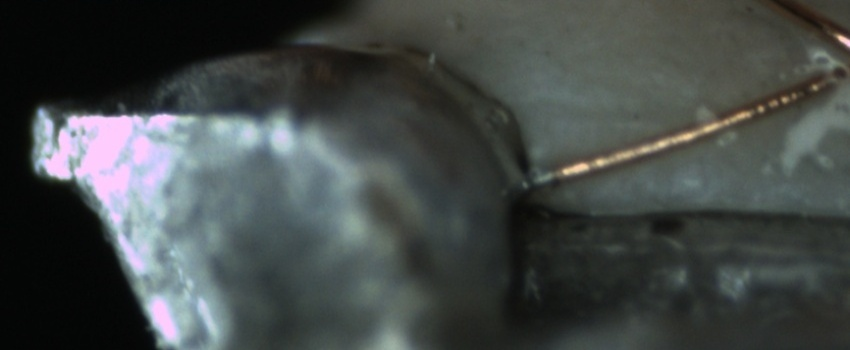CL: (796, 15, 849, 105)
DL: (533, 83, 670, 148)
TS: (510, 166, 556, 200)
